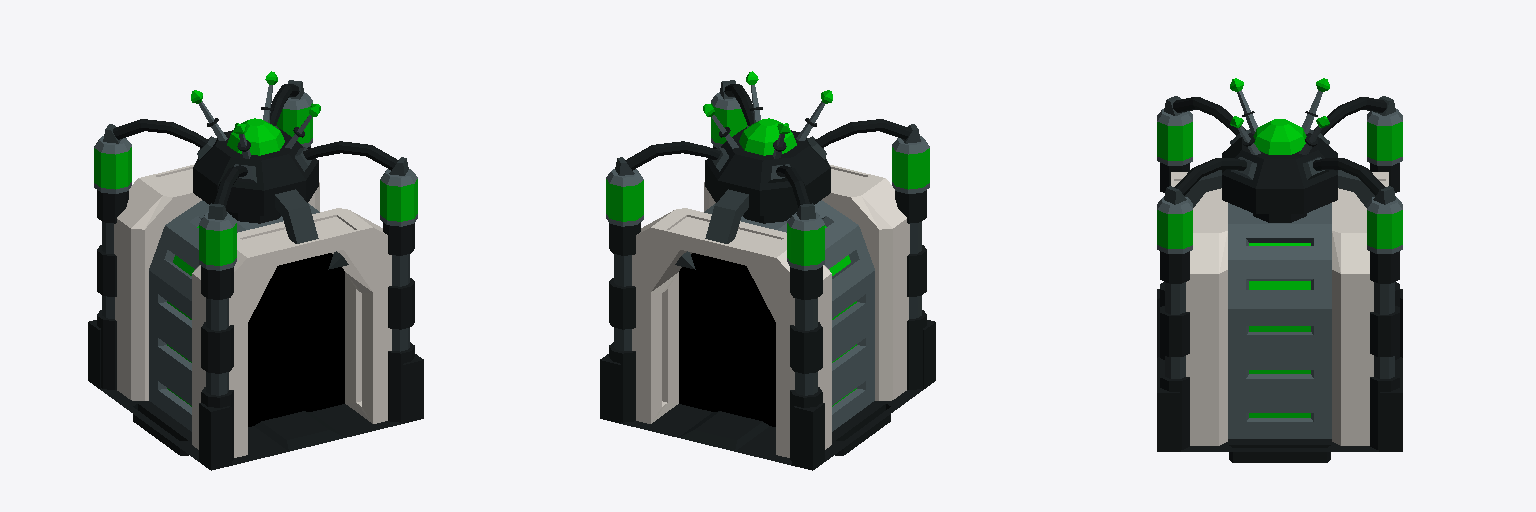
3 renders of one model, left to right at view 1: azimuth 30°, elevation 25°; view 2: azimuth 150°, elevation 25°; view 3: azimuth 270°, elevation 25°, orthographic.
Parts seen in each view (by area): view 1: Plane.008; view 2: Plane.008; view 3: Plane.008.
Boxes of the visible parts, x1=… form: Plane.008: x1=88, y1=71, x2=423, y2=470; Plane.008: x1=600, y1=71, x2=935, y2=470; Plane.008: x1=1157, y1=78, x2=1402, y2=462.
Bounding box in the file's own units: 2 × 2.84 × 2.
Materials: 1 (1 with a texture image).